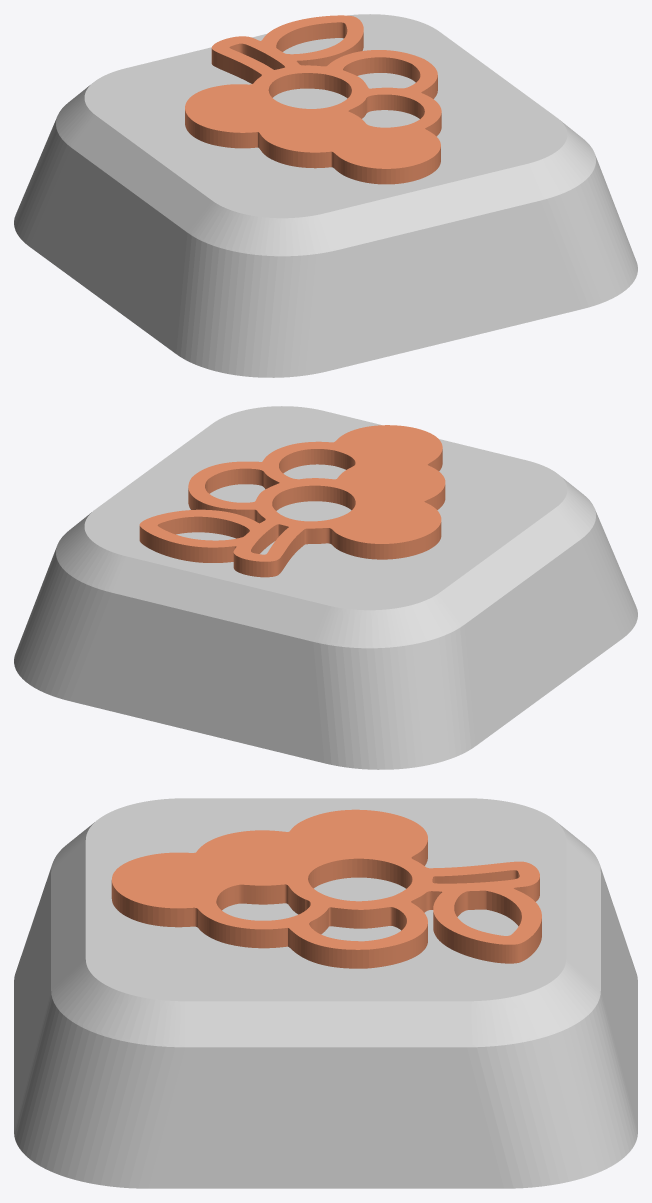
The model's file is cap-grapes.glb.
3 renders of one model, top to bottom at view 1: azimuth 30°, elevation 25°; view 2: azimuth 150°, elevation 25°; view 3: azimuth 270°, elevation 25°, orthographic. The views are drawn at different scales.
Parts seen in each view (by area): view 1: cap_1, glyph_0; view 2: cap_1, glyph_0; view 3: cap_1, glyph_0.
Boxes of the visible parts, x1,y1,x2,y2 form: cap_1: (14, 14, 637, 377); glyph_0: (185, 15, 441, 184); cap_1: (14, 406, 637, 769); glyph_0: (139, 425, 445, 577); cap_1: (14, 798, 637, 1188); glyph_0: (111, 809, 541, 968).
Size of the model in its own units: 18 by 5.6 by 18.
